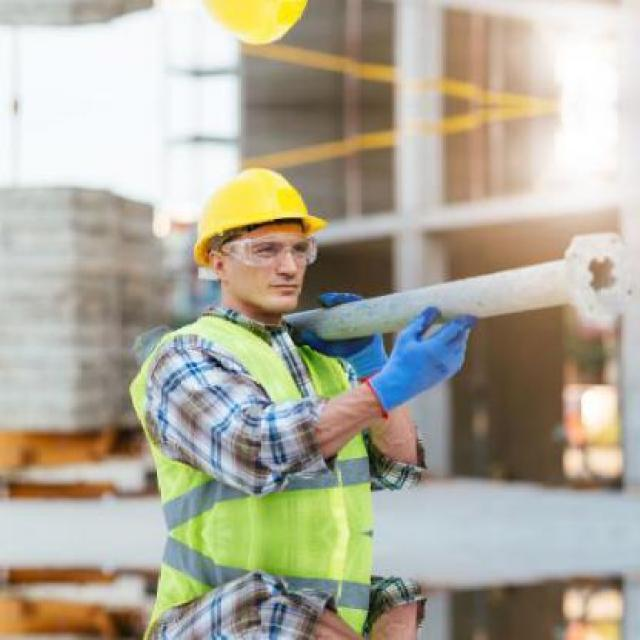Reflective-Jacket: (133, 310, 390, 637)
Safety-Helmet: (184, 160, 334, 264)
